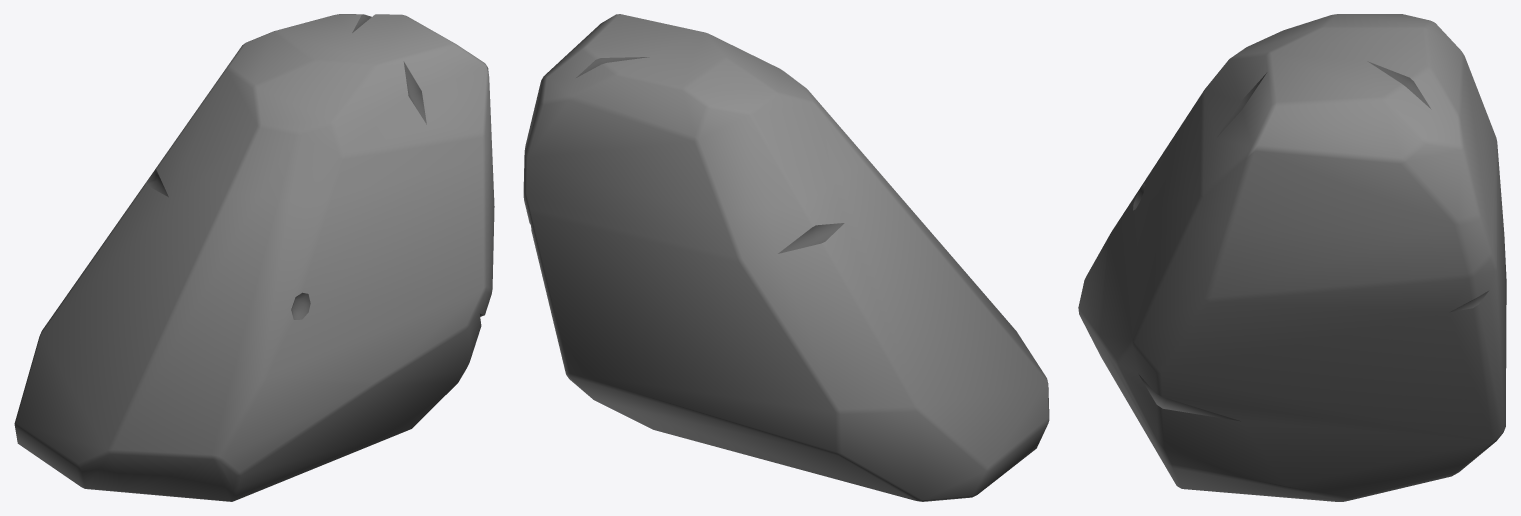
The model's file is Rock03.fbx.
The picture shows the model from 3 angles, left to right: view 1: azimuth 30°, elevation 25°; view 2: azimuth 150°, elevation 25°; view 3: azimuth 270°, elevation 25°; orthographic projection. The views are drawn at different scales.
Visible parts, largest first — view 1: LOD0; view 2: LOD0; view 3: LOD0.
Boxes of the visible parts, left/top/right/bottom form: LOD0: left=14, top=14, right=494, bottom=501; LOD0: left=523, top=14, right=1049, bottom=501; LOD0: left=1078, top=14, right=1506, bottom=501.
Size of what is drawn, in the model's own units: 473 by 321 by 362.
